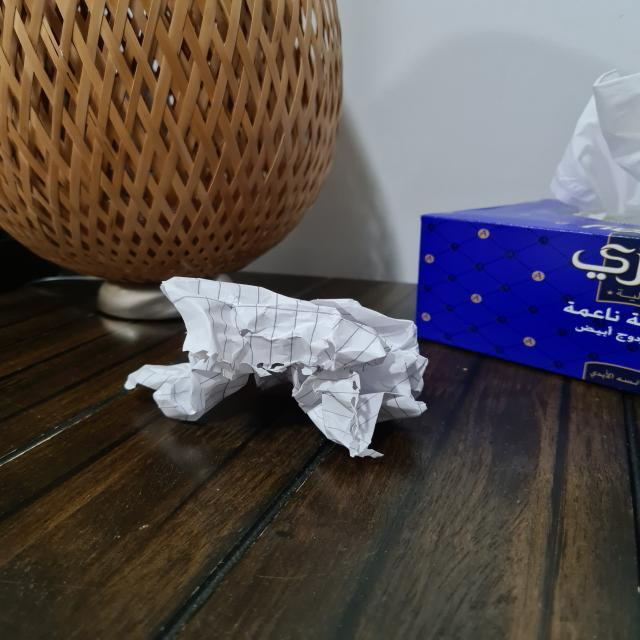Paper: (125, 270, 430, 462)
